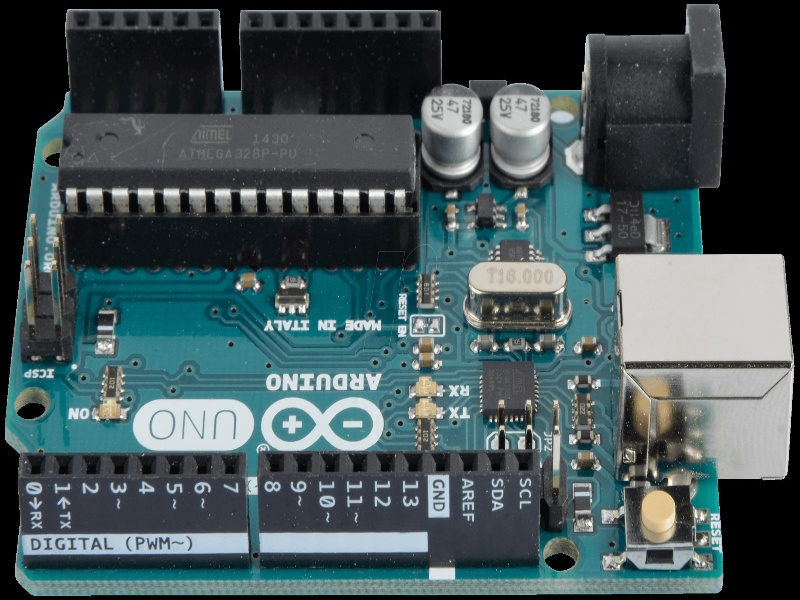uno: (15, 37, 744, 589)
